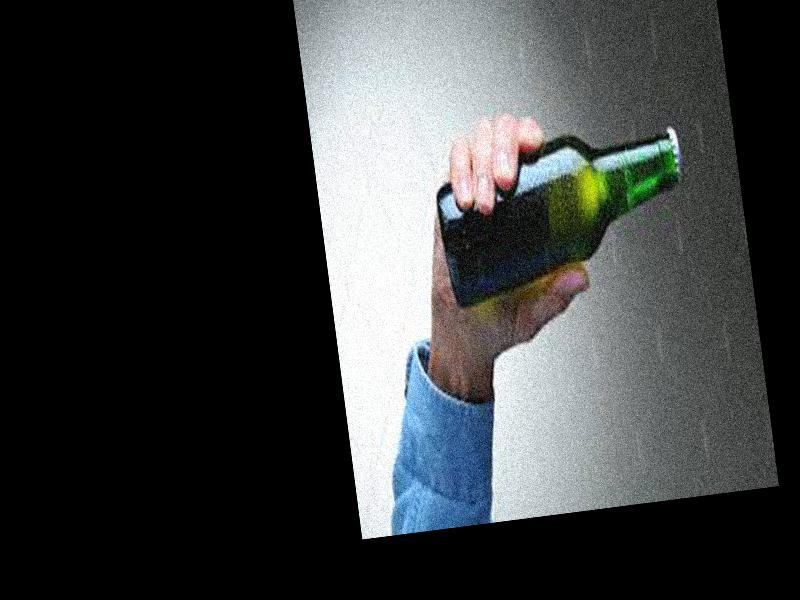Beer: (431, 114, 694, 312)
